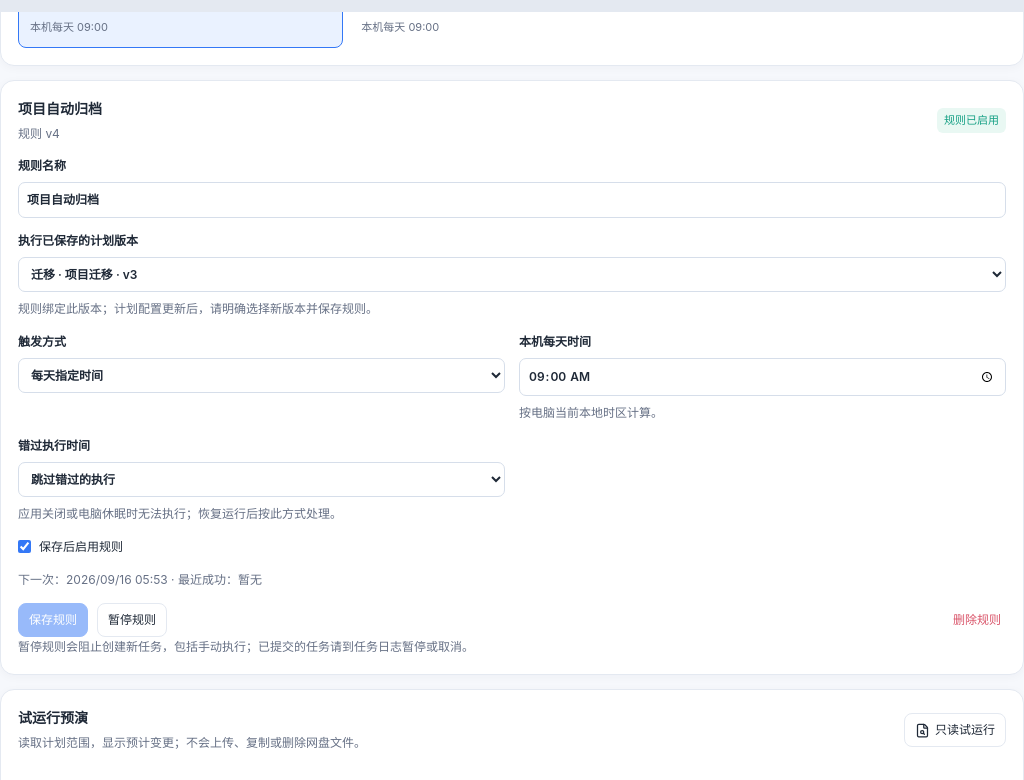
Test: shows a read-only preview and blocks edits from being executed with that saved preview
(page scrolled)
Click the button "只读试运行" at (955, 730), box [904, 713, 1006, 747]
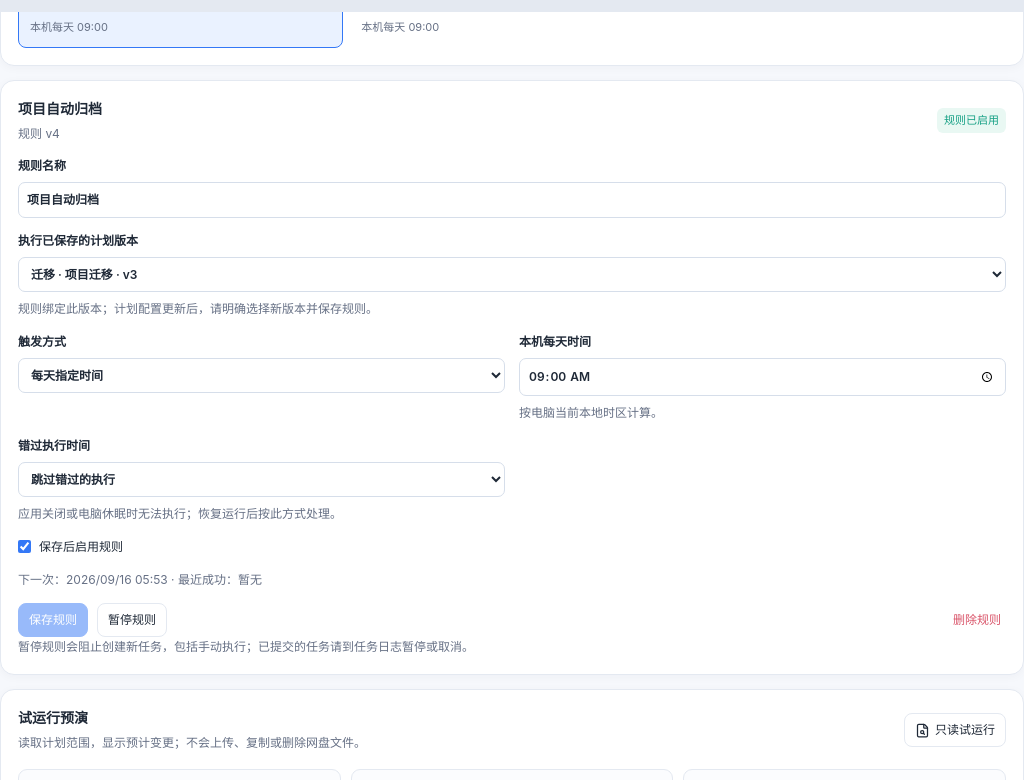
Replace the text in the field named "规则名称" with "未保存" at (512, 200), box [18, 182, 1006, 218]
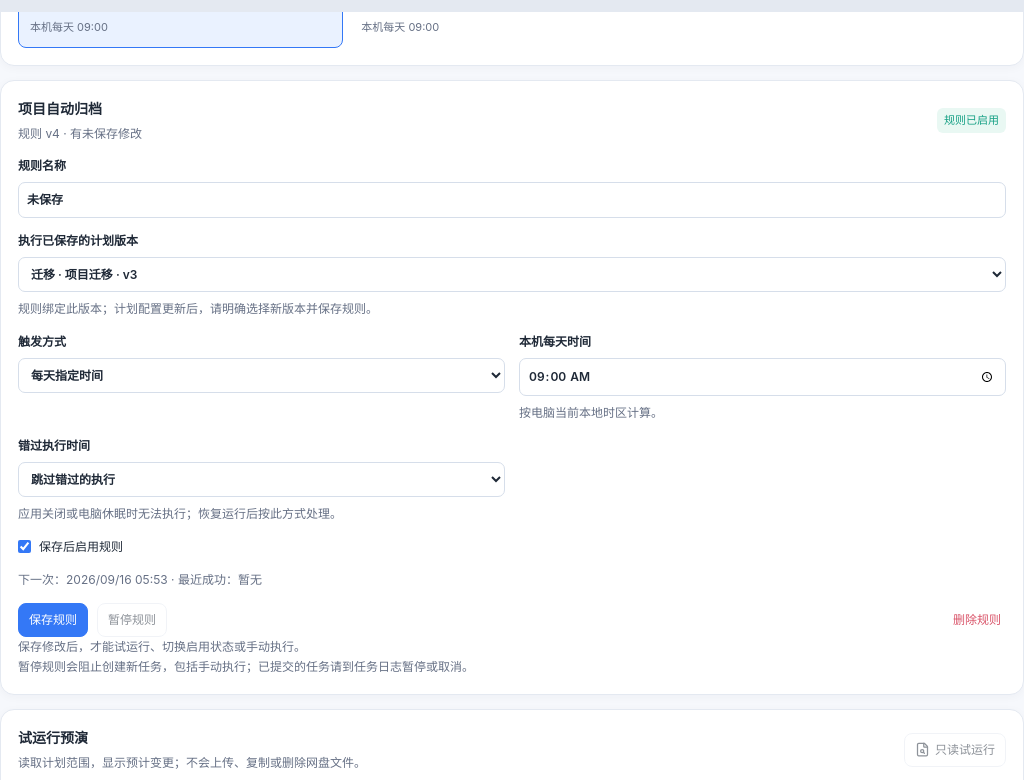
expect the button "只读试运行" is disabled: met, box [904, 733, 1006, 767]
